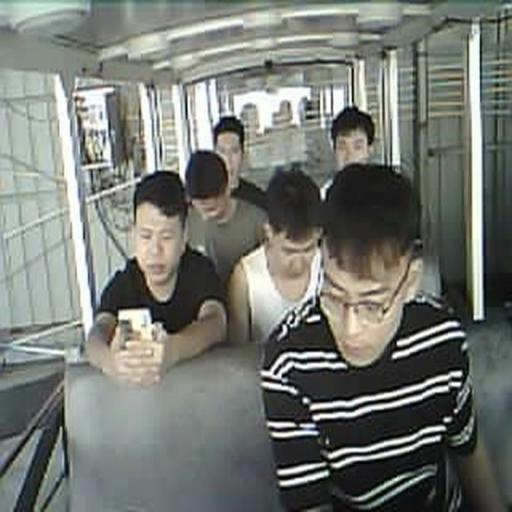persona: (258, 161, 504, 511), (86, 170, 229, 388), (227, 169, 325, 344), (184, 149, 269, 288), (212, 114, 268, 212), (320, 105, 376, 200)
